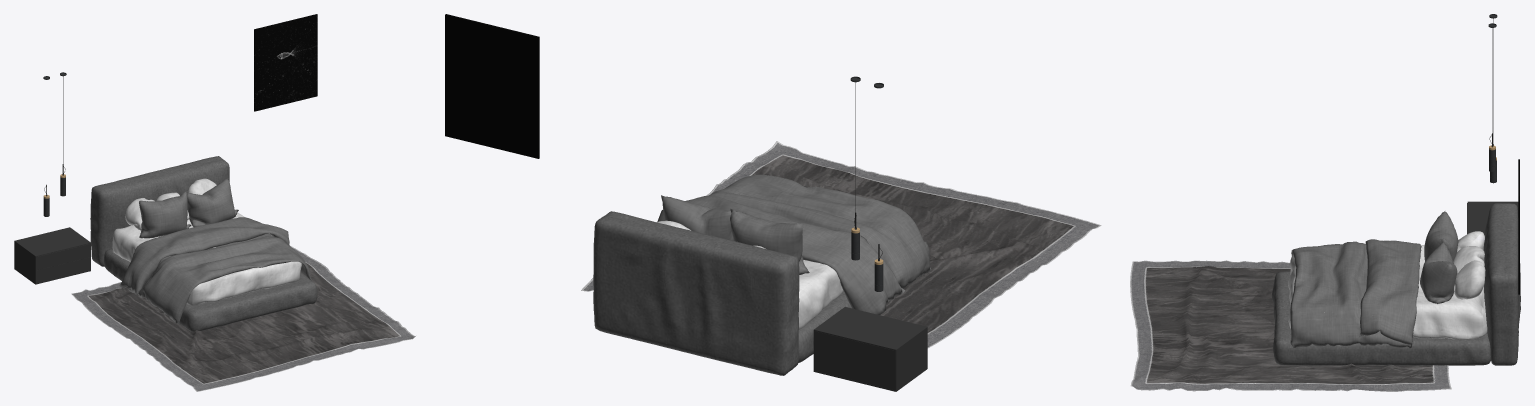
File: bedroom_bw.glb
The picture shows the model from 3 angles, left to right: view 1: azimuth 30°, elevation 25°; view 2: azimuth 150°, elevation 25°; view 3: azimuth 270°, elevation 25°; orthographic projection. The views are drawn at different scales.
Visible parts, largest first — view 1: Carpet_Carpet_0, Bed_Gray_Fabric_0, Bed_Dark_Gray_Fabric_0, Picture, Bed_White_Fabric_0, Nightstand; view 2: Bed_Dark_Gray_Fabric_0, Carpet_Carpet_0, Bed_Gray_Fabric_0, Picture, Nightstand, Bed_White_Fabric_0; view 3: Carpet_Carpet_0, Bed_Gray_Fabric_0, Bed_Dark_Gray_Fabric_0, Bed_White_Fabric_0, Nightstand, Lamp_1.
Boxes of the visible parts, box(x1,y1,x2,y2) form: Carpet_Carpet_0: box(71, 246, 415, 391); Bed_Gray_Fabric_0: box(119, 177, 311, 323); Bed_Dark_Gray_Fabric_0: box(90, 156, 317, 332); Picture: box(254, 14, 317, 111); Bed_White_Fabric_0: box(112, 178, 301, 305); Nightstand: box(14, 227, 90, 284); Bed_Dark_Gray_Fabric_0: box(593, 211, 929, 375); Carpet_Carpet_0: box(581, 141, 1101, 348); Bed_Gray_Fabric_0: box(657, 174, 931, 314); Picture: box(445, 14, 539, 158); Nightstand: box(813, 307, 927, 391); Bed_White_Fabric_0: box(657, 220, 843, 329); Carpet_Carpet_0: box(1130, 260, 1451, 391); Bed_Gray_Fabric_0: box(1290, 211, 1458, 347); Bed_Dark_Gray_Fabric_0: box(1271, 203, 1520, 365); Bed_White_Fabric_0: box(1288, 231, 1487, 339); Nightstand: box(1467, 201, 1518, 234); Lamp_1: box(1488, 23, 1496, 171).
Size of the model in its own units: 4.65 by 3 by 4.32.
Materials: 7 (6 with a texture image).
